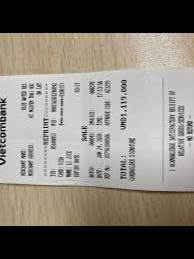receipt: (0, 73, 142, 185)
